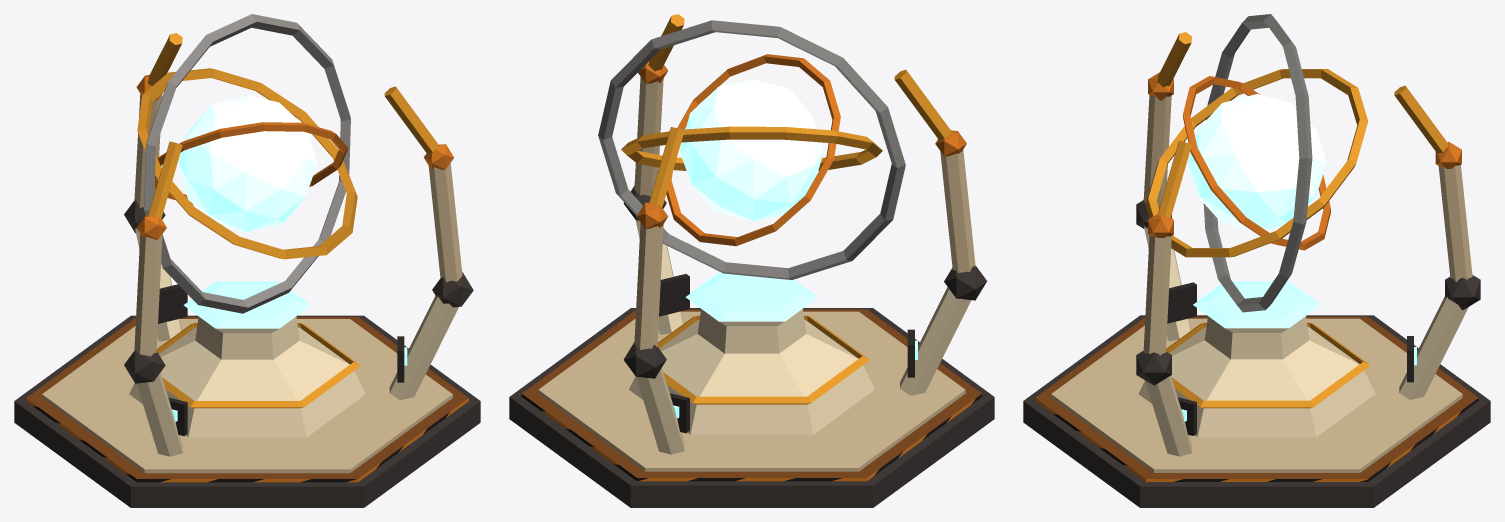
Rendered from baterie-T5-jadro.glb.
3 renders of one model, left to right at view 1: azimuth 30°, elevation 25°; view 2: azimuth 150°, elevation 25°; view 3: azimuth 270°, elevation 25°, orthographic. The views are drawn at different scales.
Visible parts, largest first — view 1: baterie-T5-jadro; view 2: baterie-T5-jadro; view 3: baterie-T5-jadro.
Part boxes in pixels (x1,y1,x2,y2): baterie-T5-jadro: (14, 14, 480, 507); baterie-T5-jadro: (509, 14, 994, 507); baterie-T5-jadro: (1023, 14, 1490, 507).
Bounding box in the file's own units: 5.34 × 5.7 × 6.16.
Materials: 10 (1 with a texture image).
